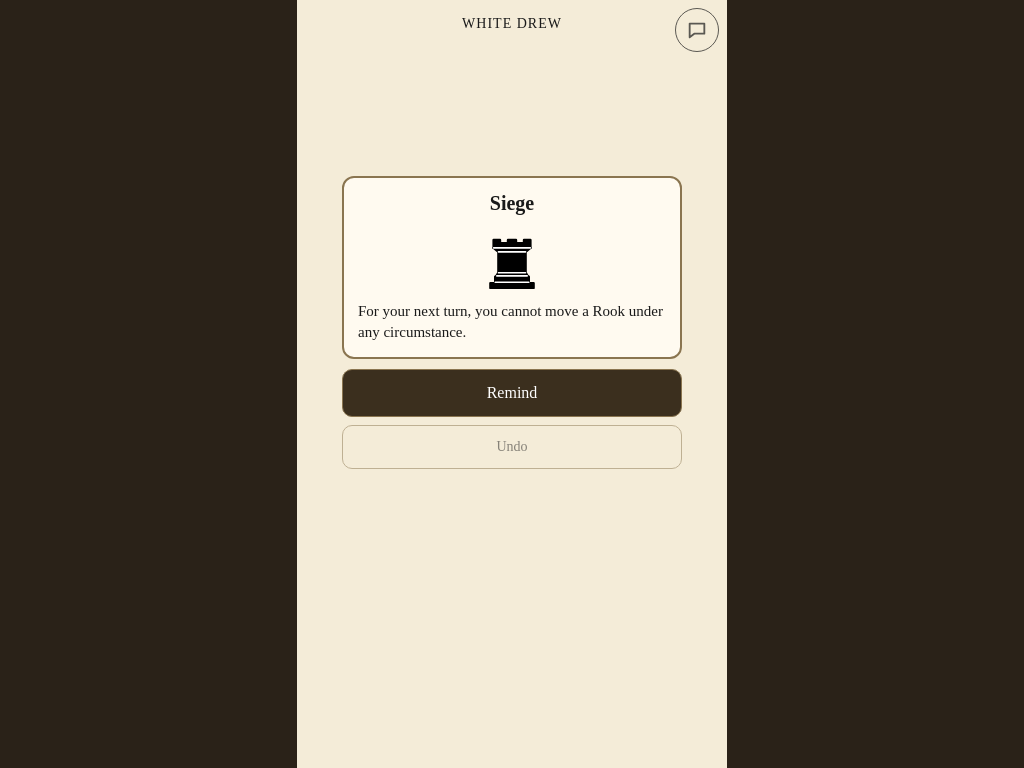
Test: cancel goes back to the drawn card
Click the button named "Feedback about this card": click(697, 30) [675,8,719,52]
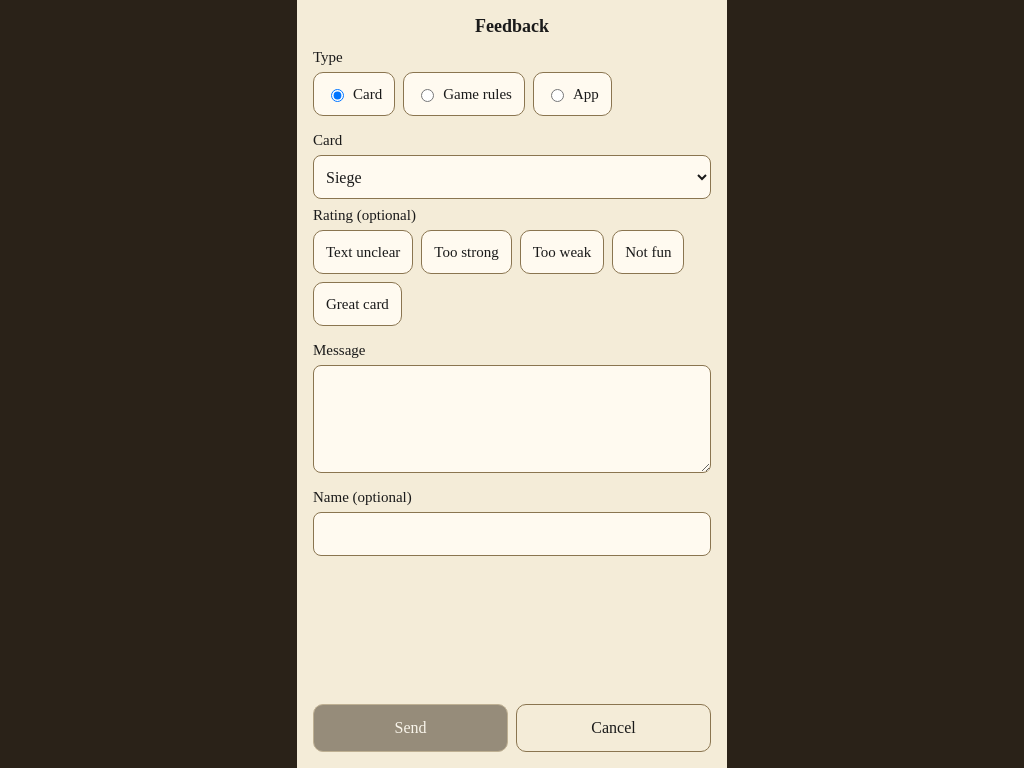
Click the button "Cancel": click(614, 728) [516,704,711,752]
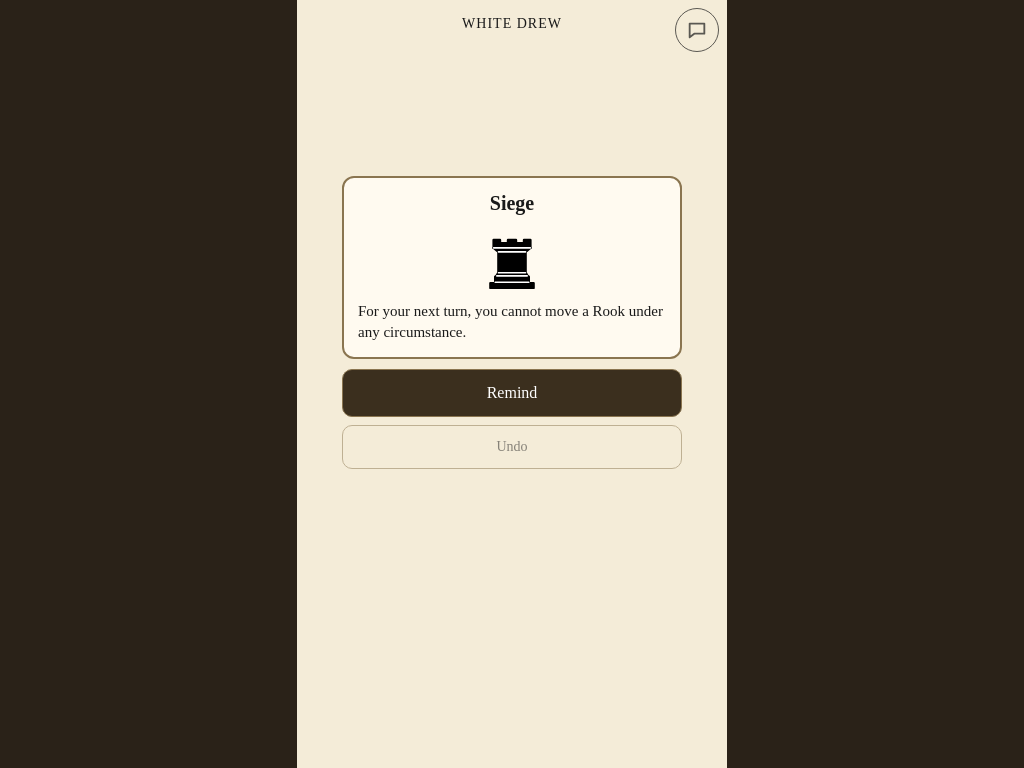
Expected: the text "White drew" is shown, [462,16,562,32]
Expected: the heading "Feedback" is gone
